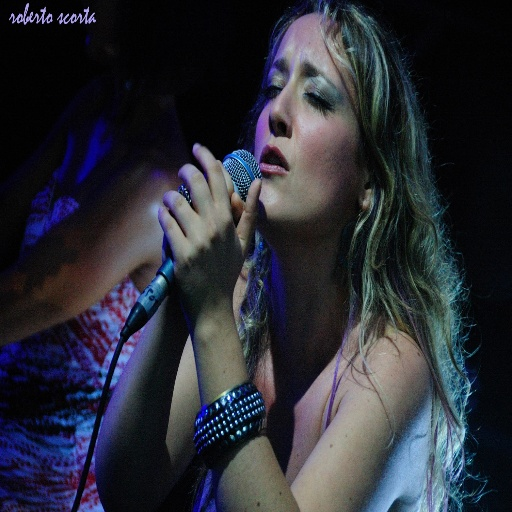hand: (161, 157, 247, 324)
